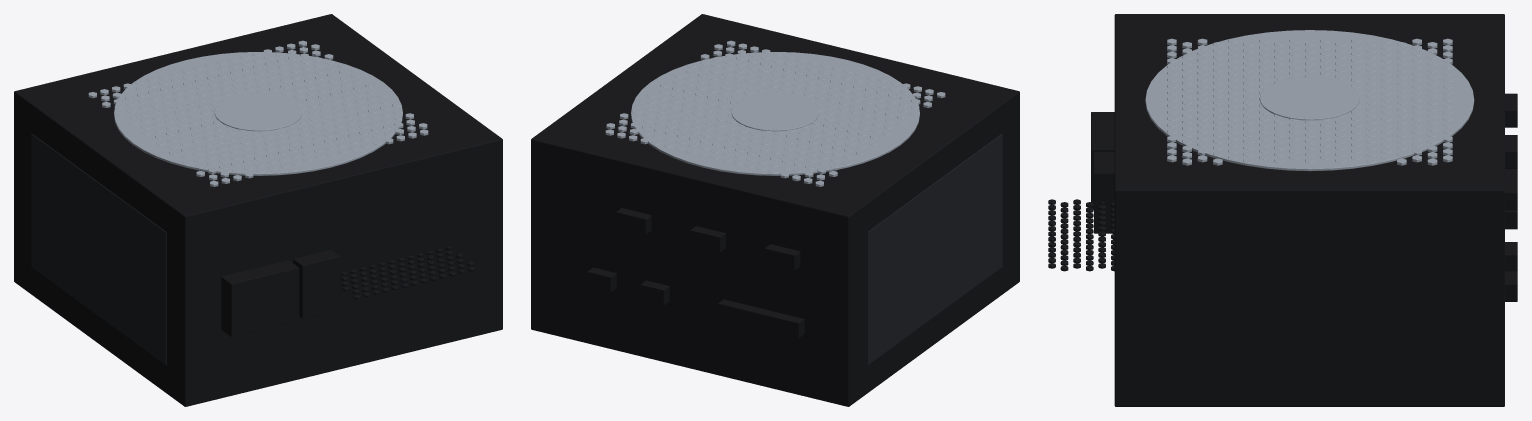
The model's file is psu.lod0.glb.
The picture shows the model from 3 angles, left to right: view 1: azimuth 30°, elevation 25°; view 2: azimuth 150°, elevation 25°; view 3: azimuth 270°, elevation 25°; orthographic projection. The views are drawn at different scales.
Visible parts, largest first — view 1: P01_enclosure_chassis, P03_intake_grill, P12_rating_plate, P04_ac_inlet_switch; view 2: P01_enclosure_chassis, P03_intake_grill, P12_rating_plate, P05_modular_panel; view 3: P01_enclosure_chassis, P03_intake_grill, P04_ac_inlet_switch, P05_modular_panel.
Part boxes in pixels (left/top/right/bottom): P01_enclosure_chassis: left=14, top=14, right=502, bottom=406; P03_intake_grill: left=88, top=40, right=428, bottom=186; P12_rating_plate: left=31, top=133, right=166, bottom=364; P04_ac_inlet_switch: left=221, top=250, right=340, bottom=337; P01_enclosure_chassis: left=531, top=14, right=1019, bottom=406; P03_intake_grill: left=605, top=40, right=945, bottom=186; P12_rating_plate: left=867, top=133, right=1002, bottom=364; P05_modular_panel: left=587, top=208, right=804, bottom=338; P01_enclosure_chassis: left=1048, top=14, right=1504, bottom=406; P03_intake_grill: left=1145, top=30, right=1474, bottom=171; P04_ac_inlet_switch: left=1091, top=112, right=1114, bottom=233; P05_modular_panel: left=1505, top=93, right=1517, bottom=301.
Bounding box in the file's own units: 150 × 87.5 × 168.
